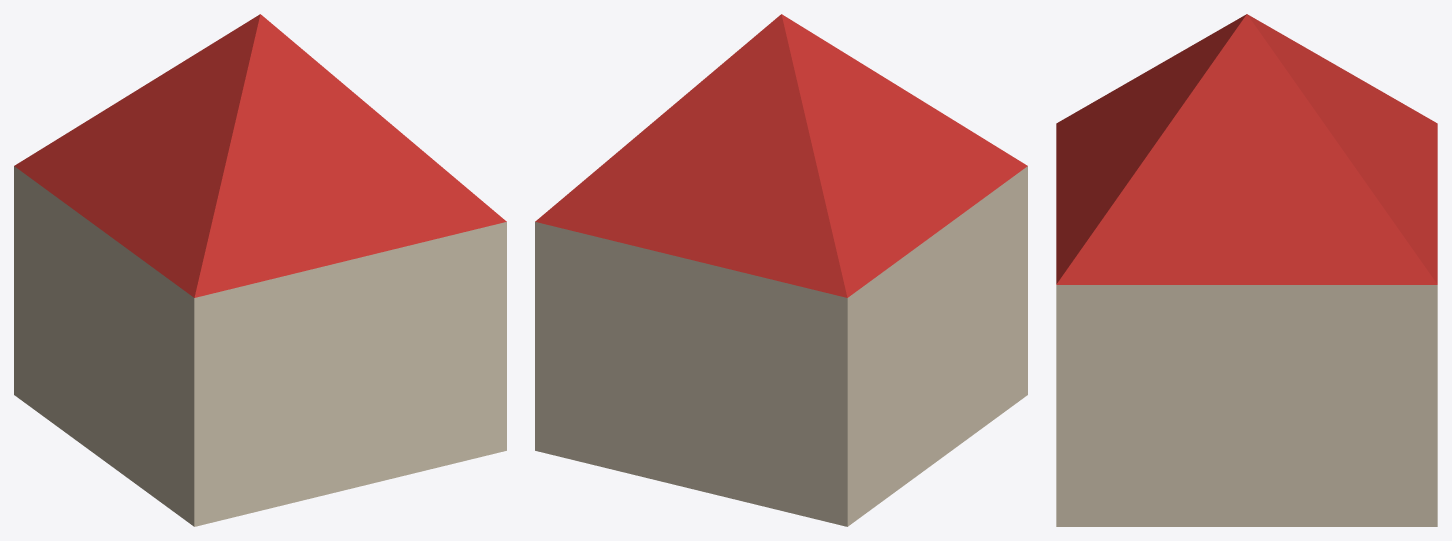
File: house.obj
The picture shows the model from 3 angles, left to right: view 1: azimuth 30°, elevation 25°; view 2: azimuth 150°, elevation 25°; view 3: azimuth 270°, elevation 25°; orthographic projection. The views are drawn at different scales.
Size of the model in its own units: 2 by 2.5 by 2.
